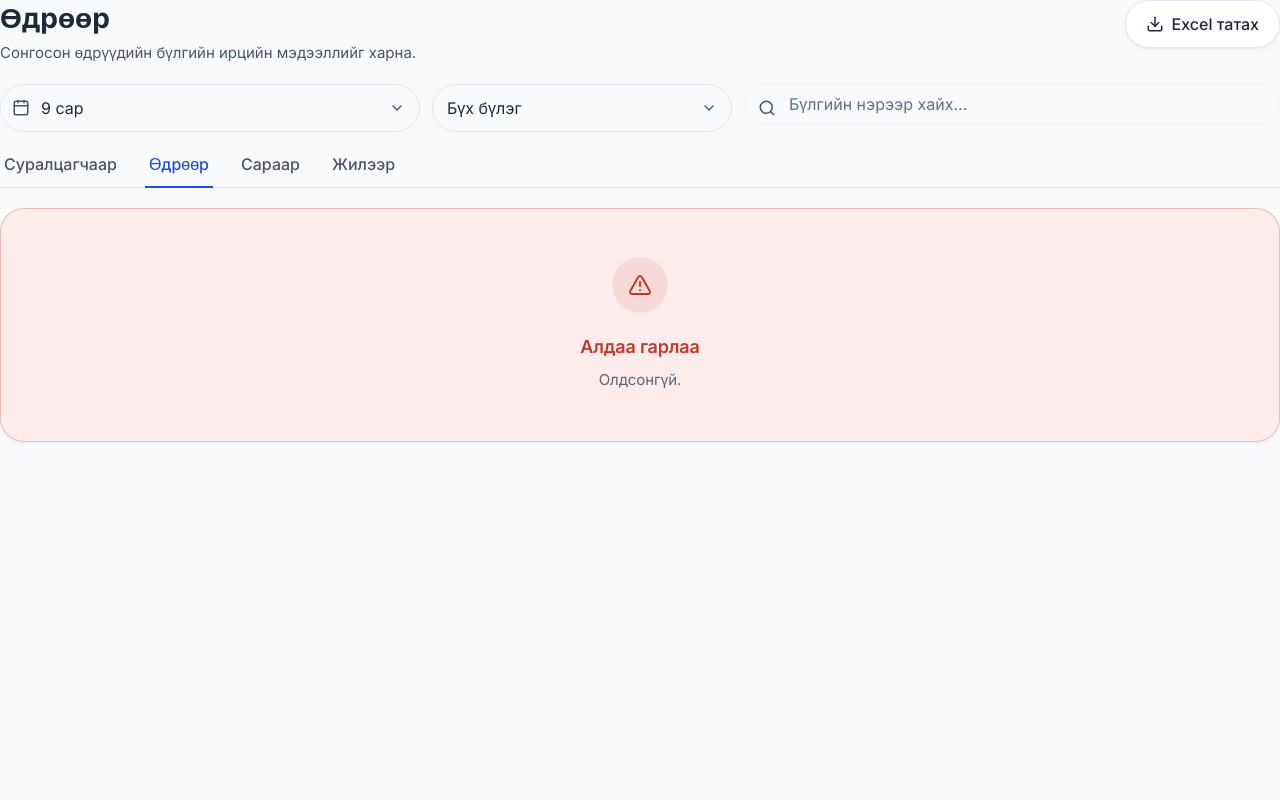
Test: Суралцагчаар › opens one child's month beside the table
The image size is (1280, 800).
Click the tab "Суралцагчаар". click: (60, 170)
box: [0, 152, 121, 188]
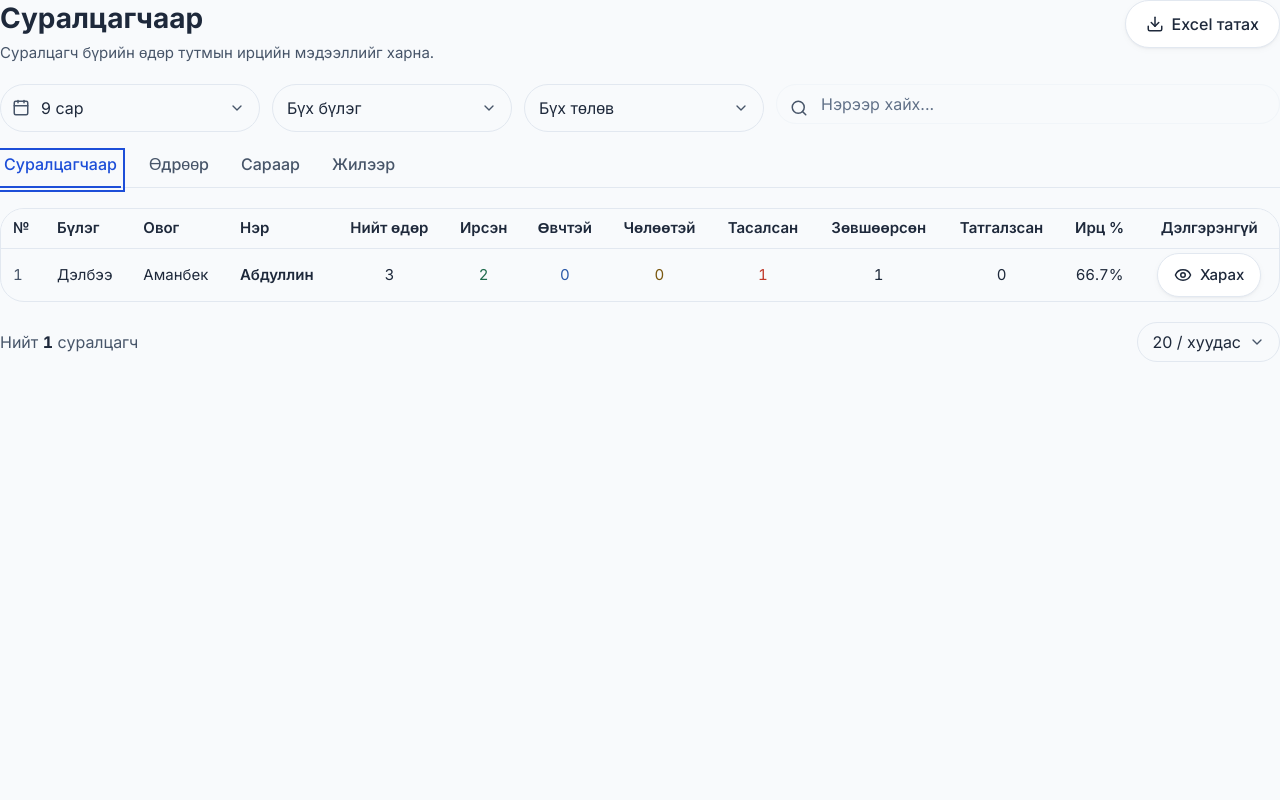
Click the button with aria-label "Аманбек Абдуллин — харах". click: (1209, 275)
box: [1157, 253, 1261, 297]
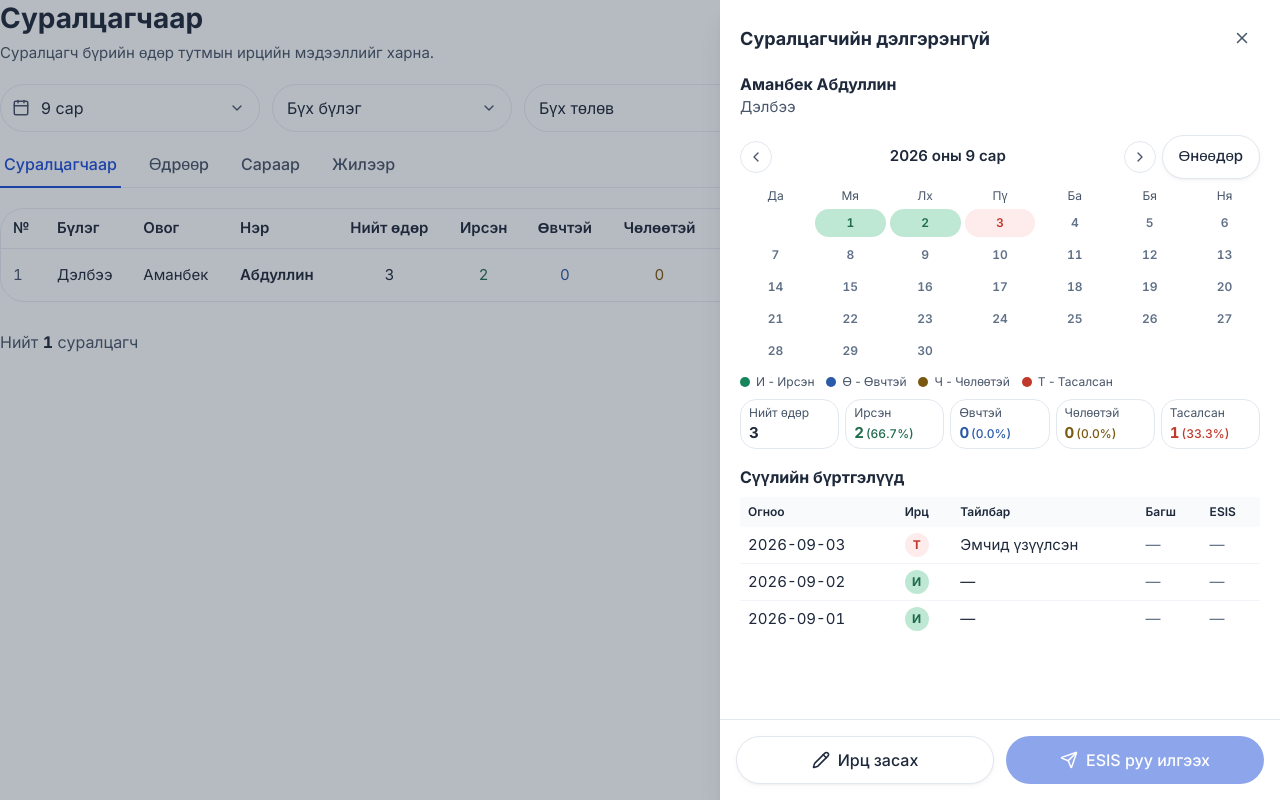
Now the text "2026 оны 9 сар" is shown, box [890, 146, 1006, 165]
Now the text "Нийт өдөр" is shown, box [749, 404, 809, 420]
Now the text "(66.7%)" is shown, box [866, 426, 914, 440]
Click the button named "Дараагийн сар". click: (1140, 156)
box: [1124, 140, 1156, 172]
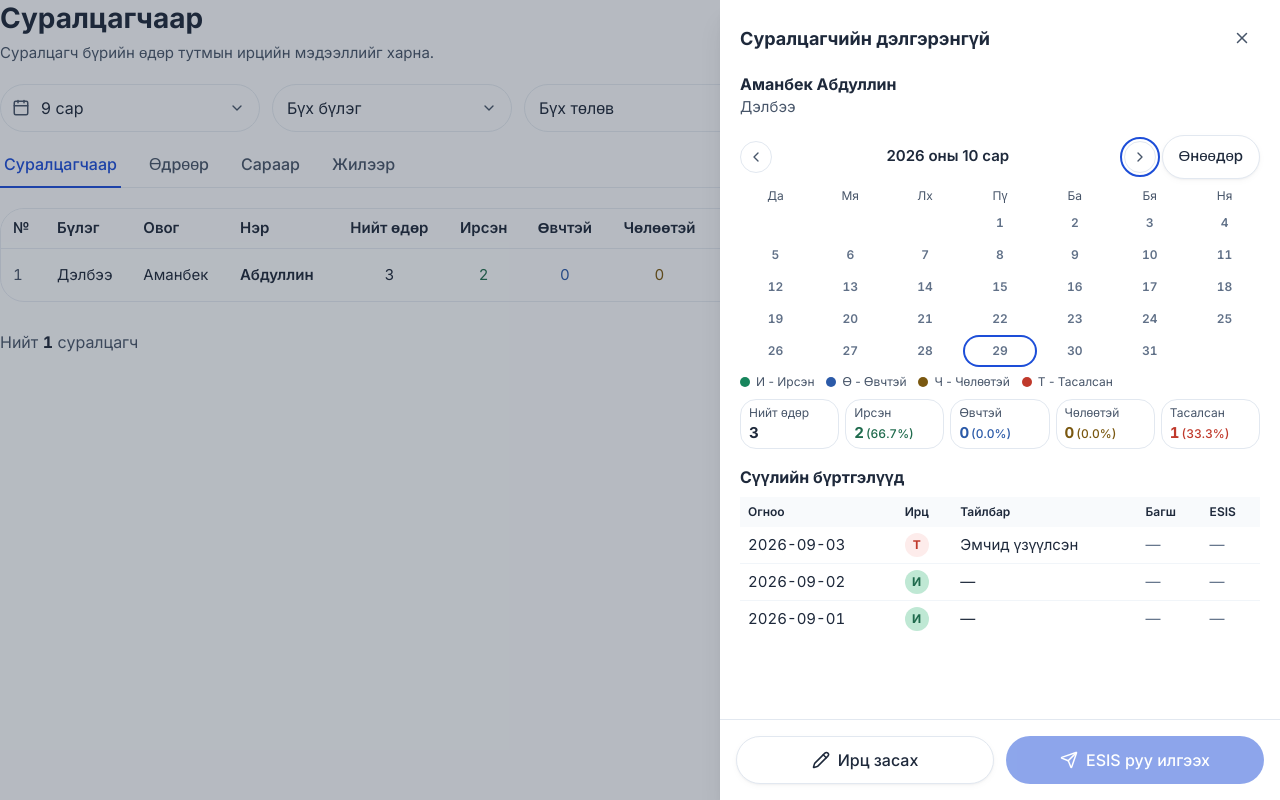
Now the text "2026 оны 10 сар" is shown, box [886, 146, 1009, 165]
